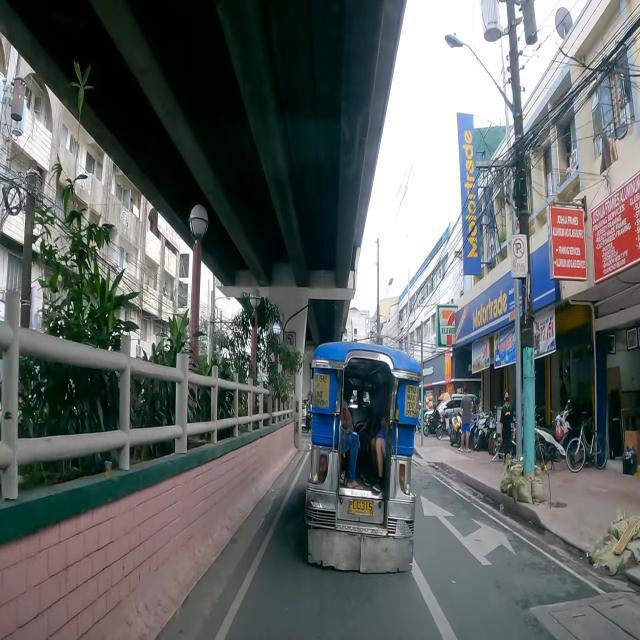bike: (566, 411, 608, 474)
car: (423, 394, 478, 421)
jeepney: (304, 341, 422, 575)
motorcycle: (534, 398, 574, 472), (423, 402, 442, 437), (488, 404, 498, 456), (477, 418, 492, 450), (451, 416, 462, 446), (474, 419, 484, 451)
tricycle: (302, 400, 312, 433)
